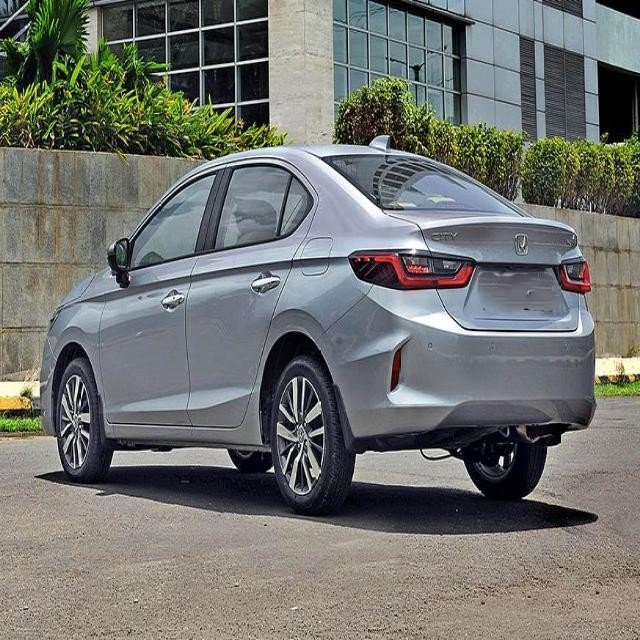car: (45, 146, 605, 521)
